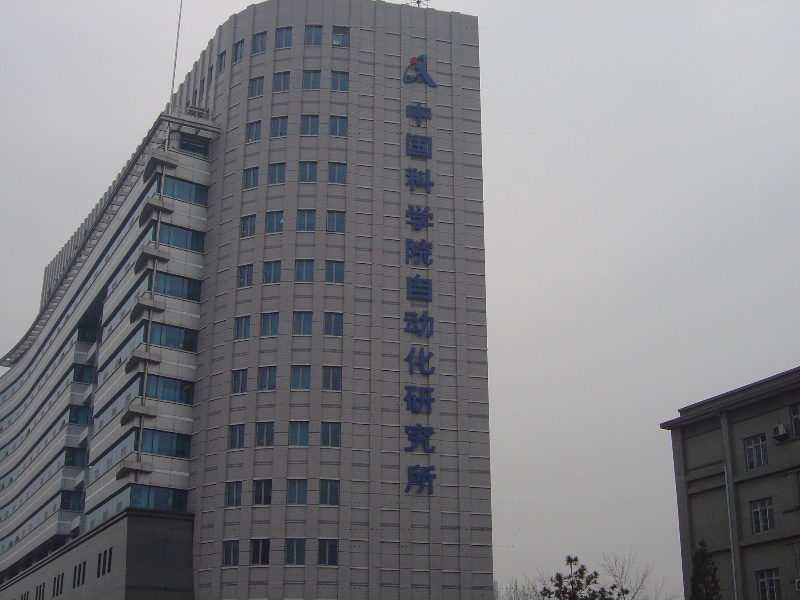text: (417, 98, 432, 498), (404, 98, 416, 498), (65, 230, 80, 294), (51, 230, 64, 294), (433, 98, 435, 498), (81, 230, 86, 294)
